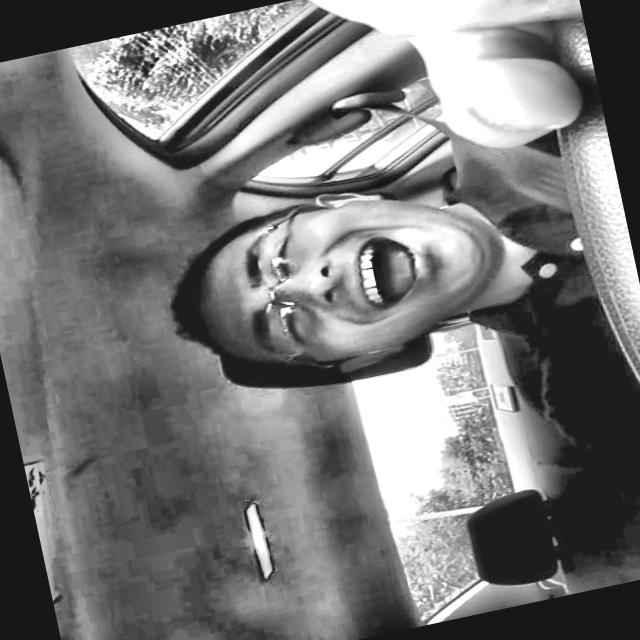open_mouth: (340, 221, 445, 328)
